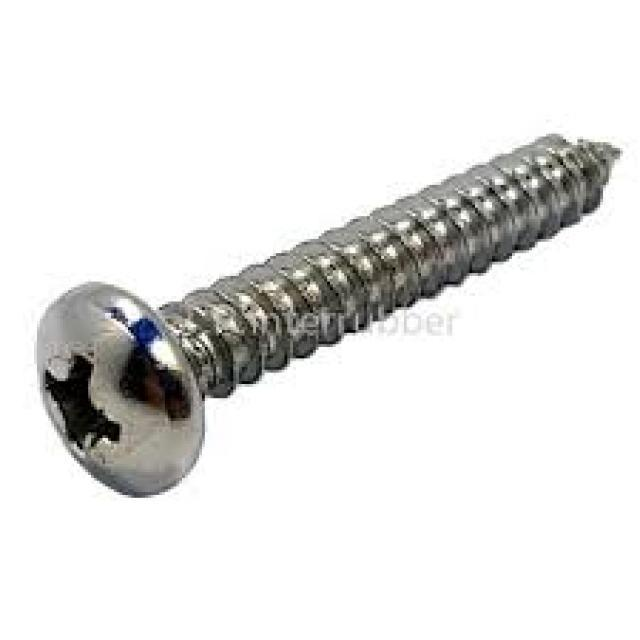Screw: (34, 134, 623, 498)
